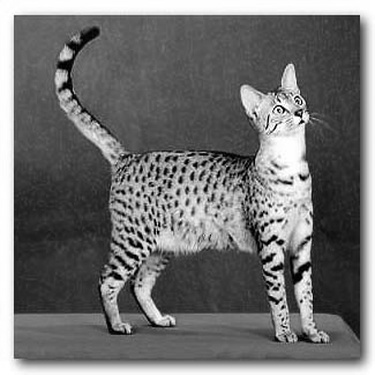cat: (48, 21, 336, 342)
